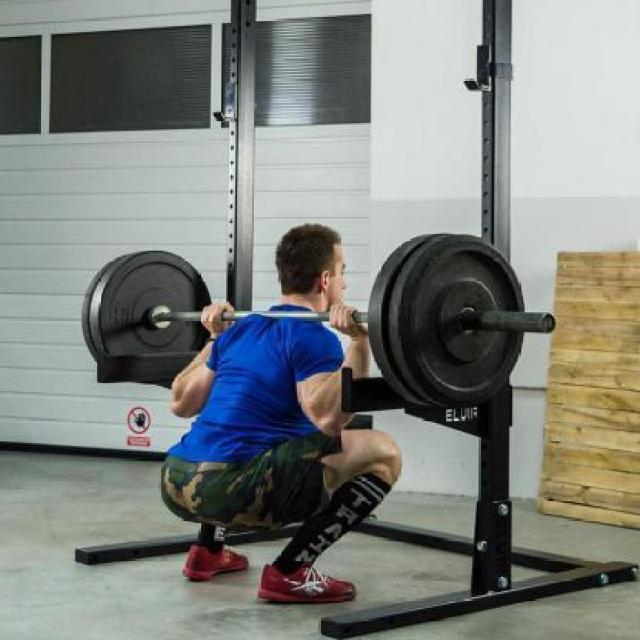barbell: (400, 231, 563, 414)
